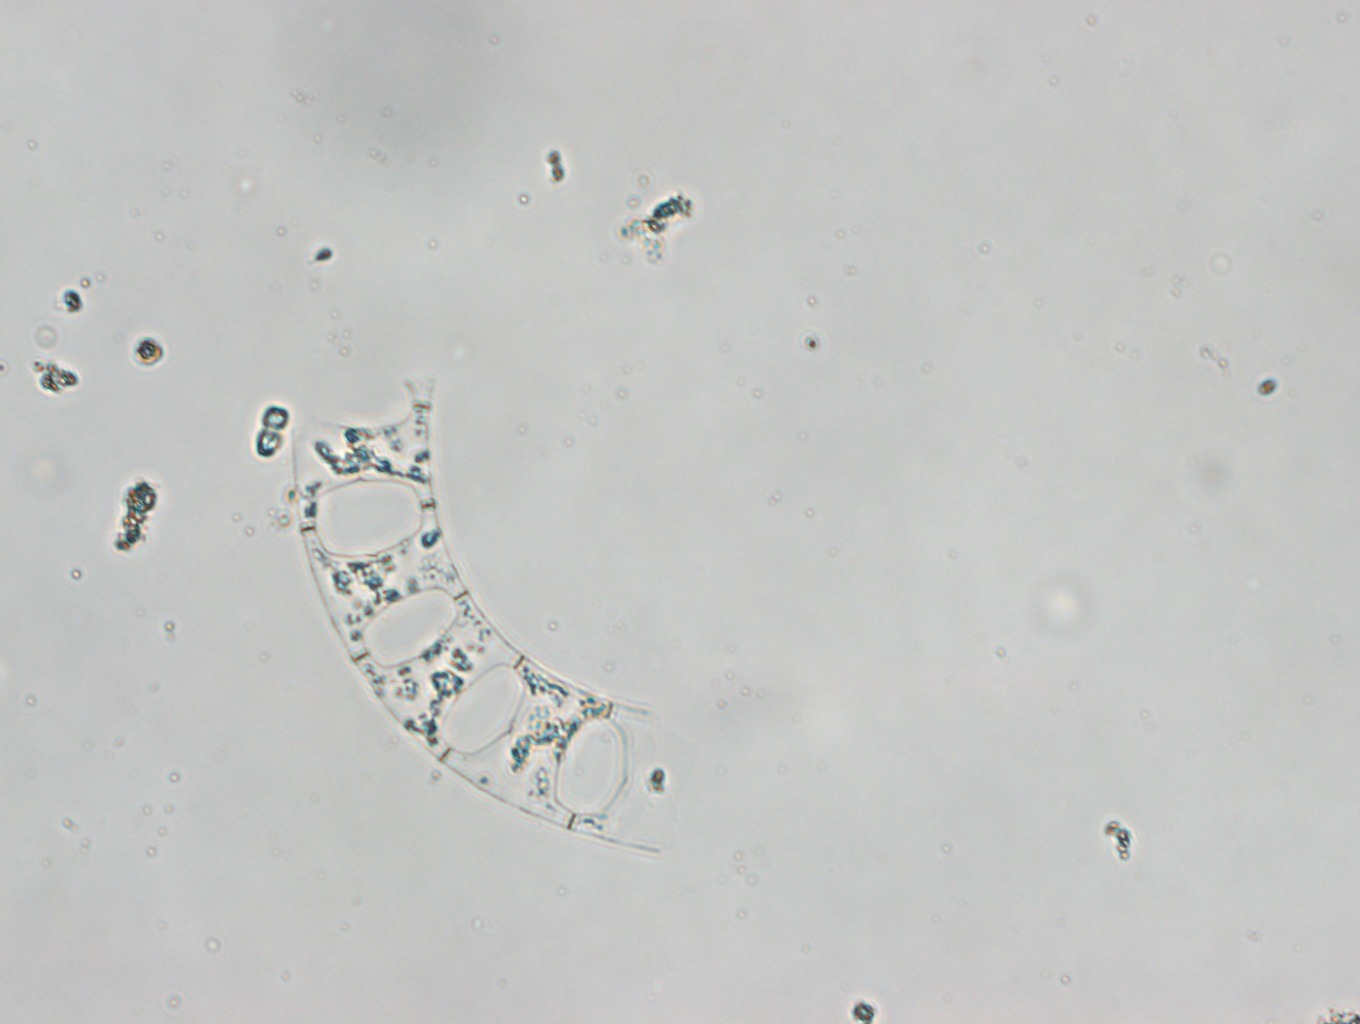eucampia: (291, 380, 668, 853)
